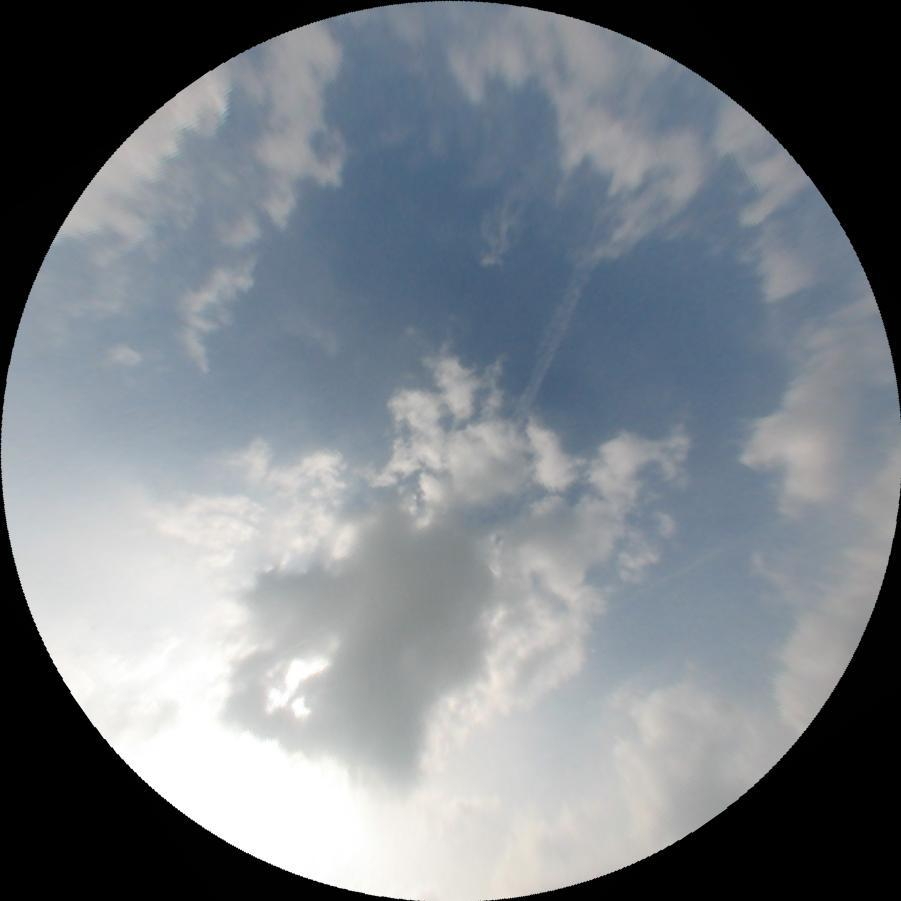contrail old: (599, 529, 756, 621)
contrail veryold: (505, 261, 591, 416)
sun: (92, 688, 395, 897)
